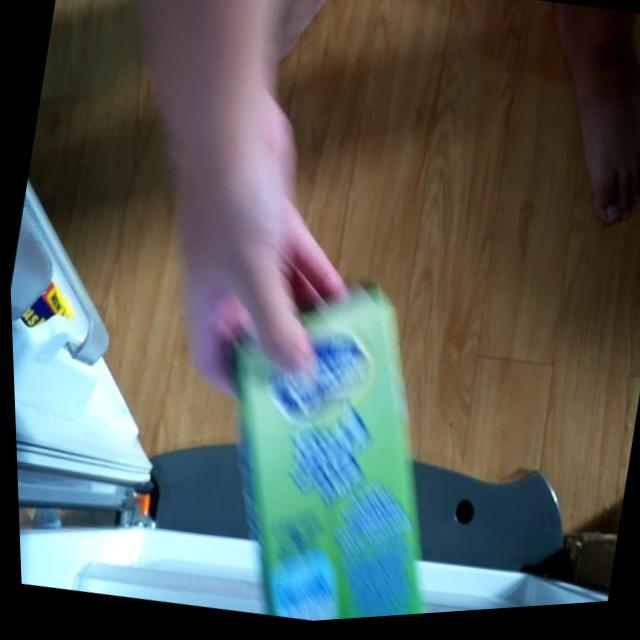milk: (177, 254, 487, 631)
